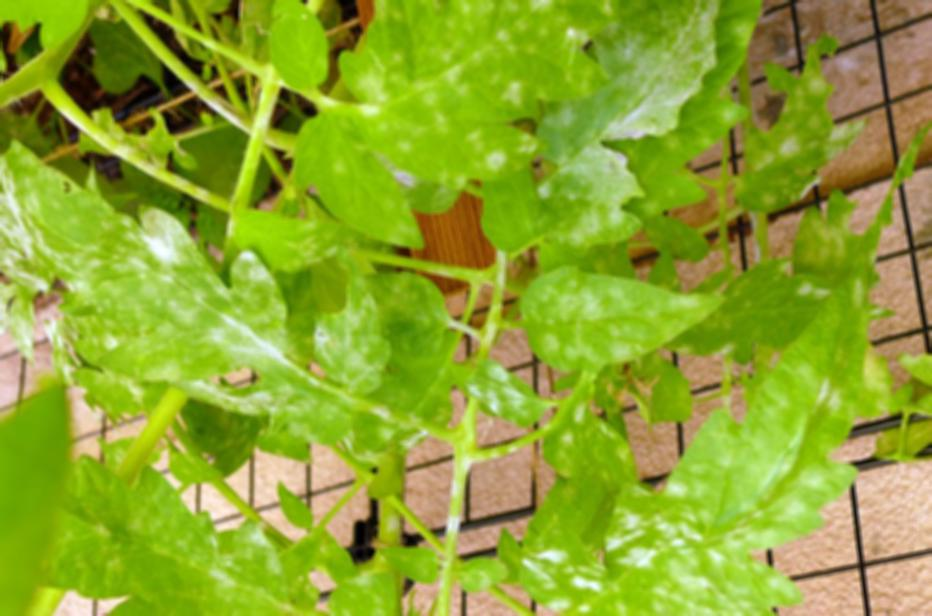Tomato mold leaf: (576, 147, 932, 616), (6, 136, 386, 447), (281, 0, 620, 250), (11, 472, 336, 616), (501, 270, 748, 375), (445, 357, 537, 428)
